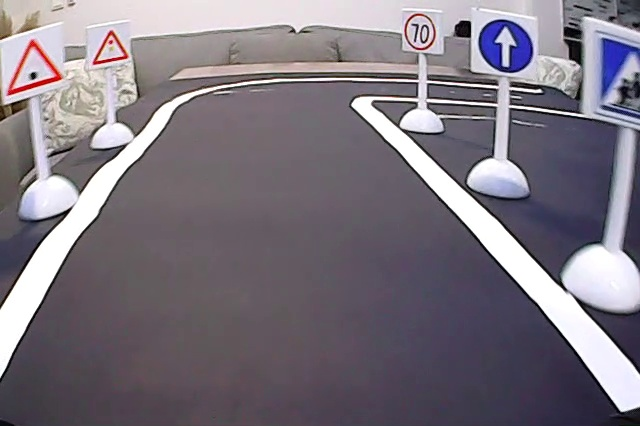green light: (3, 40, 67, 96)
red light: (90, 27, 138, 71)
school crossing: (587, 24, 640, 123)
speed limit 70: (401, 10, 440, 54)
